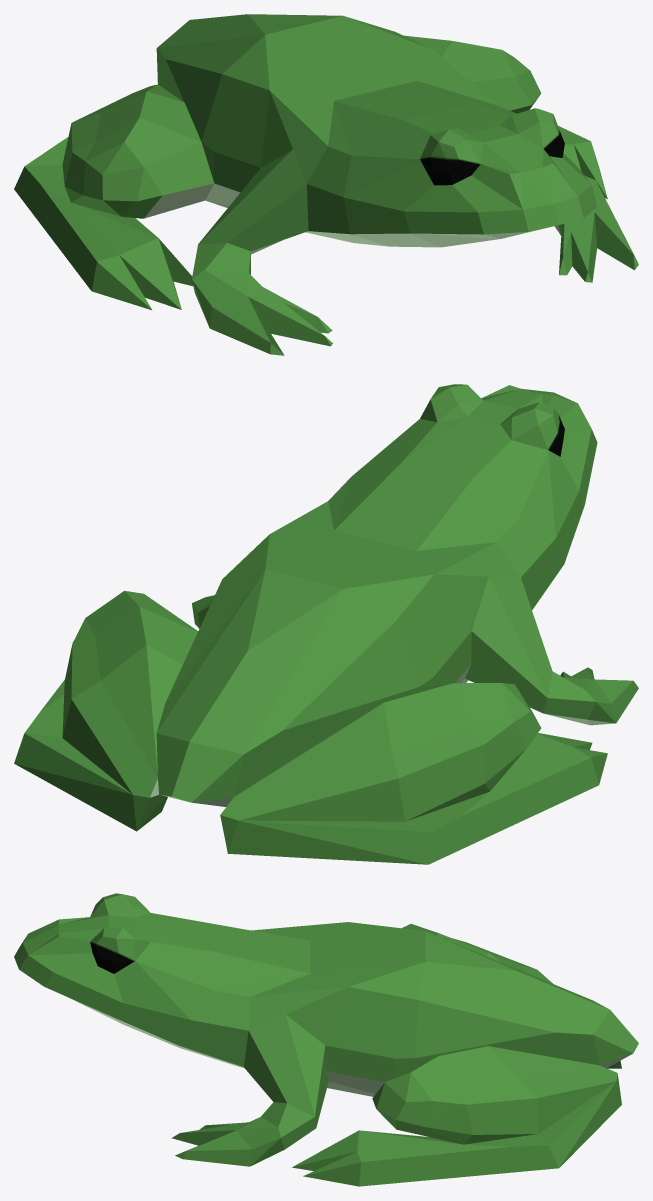
The model's file is Frog_01.FBX.
3 renders of one model, top to bottom at view 1: azimuth 30°, elevation 25°; view 2: azimuth 150°, elevation 25°; view 3: azimuth 270°, elevation 25°, orthographic. The views are drawn at different scales.
Parts seen in each view (by area): view 1: Frog_01; view 2: Frog_01; view 3: Frog_01.
Boxes of the visible parts, x1,y1,x2,y2 form: Frog_01: (14, 14, 638, 355); Frog_01: (14, 384, 638, 864); Frog_01: (14, 893, 638, 1186).
Bounding box in the file's own units: 45.57 × 18.7 × 60.26.
Materials: 1 (1 with a texture image).
